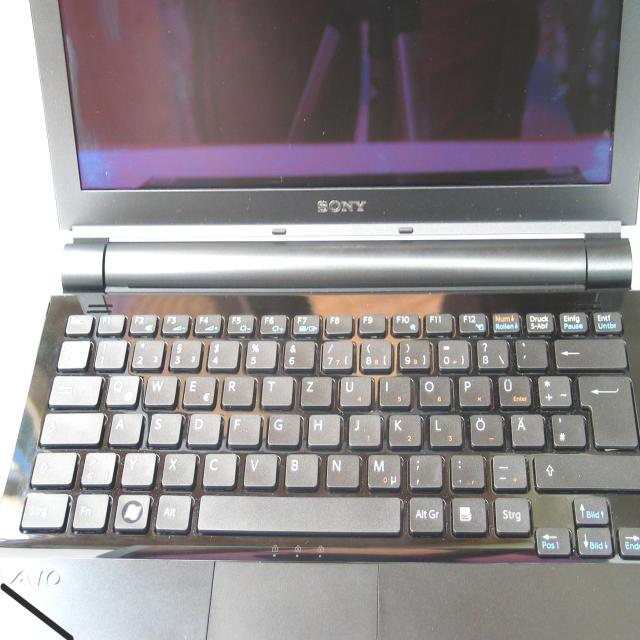0: (435, 336, 470, 368)
1: (92, 337, 126, 367)
2: (129, 337, 164, 367)
3: (167, 337, 201, 367)
4: (205, 337, 238, 367)
5: (243, 337, 276, 367)
6: (281, 338, 315, 368)
7: (319, 337, 353, 368)
8: (357, 337, 391, 368)
9: (396, 337, 431, 369)
a: (106, 409, 142, 443)
accent: (514, 336, 547, 367)
ae: (508, 411, 544, 445)
alt-left: (152, 491, 191, 530)
altgr-right: (406, 493, 444, 532)
b: (282, 450, 318, 486)
c: (200, 449, 236, 485)
caret: (55, 337, 89, 367)
comma: (406, 451, 442, 487)
d: (185, 410, 220, 444)
del: (552, 335, 626, 367)
e: (180, 373, 215, 405)
enter: (575, 371, 640, 447)
f: (225, 411, 260, 445)
g: (265, 411, 300, 445)
h: (305, 411, 340, 445)
hash: (549, 410, 585, 446)
i: (376, 373, 411, 405)
j: (346, 411, 380, 445)
k: (385, 411, 421, 445)
keyboard: (6, 292, 640, 564)
l: (427, 411, 462, 445)
less: (78, 448, 116, 484)
m: (365, 451, 401, 489)
minus: (489, 451, 527, 488)
n: (323, 451, 359, 487)
o: (415, 373, 450, 406)
oe: (467, 411, 502, 445)
p: (455, 373, 490, 406)
plus: (536, 372, 571, 406)
point: (447, 451, 485, 487)
q: (103, 371, 139, 405)
r: (220, 373, 254, 405)
s: (145, 410, 181, 444)
shift-left: (27, 448, 77, 484)
shift-lock: (37, 409, 103, 443)
shift-right: (530, 450, 640, 489)
space: (194, 493, 402, 533)
ss: (474, 336, 508, 367)
strg-left: (17, 488, 69, 528)
strg-right: (492, 493, 530, 533)
t: (259, 373, 293, 405)
tab: (46, 371, 101, 404)
u: (337, 373, 371, 406)
ue: (495, 372, 531, 406)
v: (242, 450, 277, 486)
w: (141, 372, 176, 405)
x: (159, 449, 195, 485)
y: (119, 449, 155, 485)
z: (298, 373, 332, 405)
